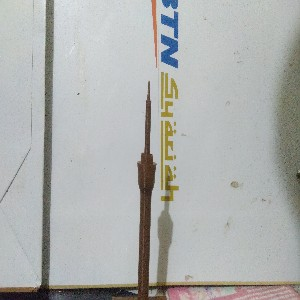solder: (136, 79, 157, 300)
